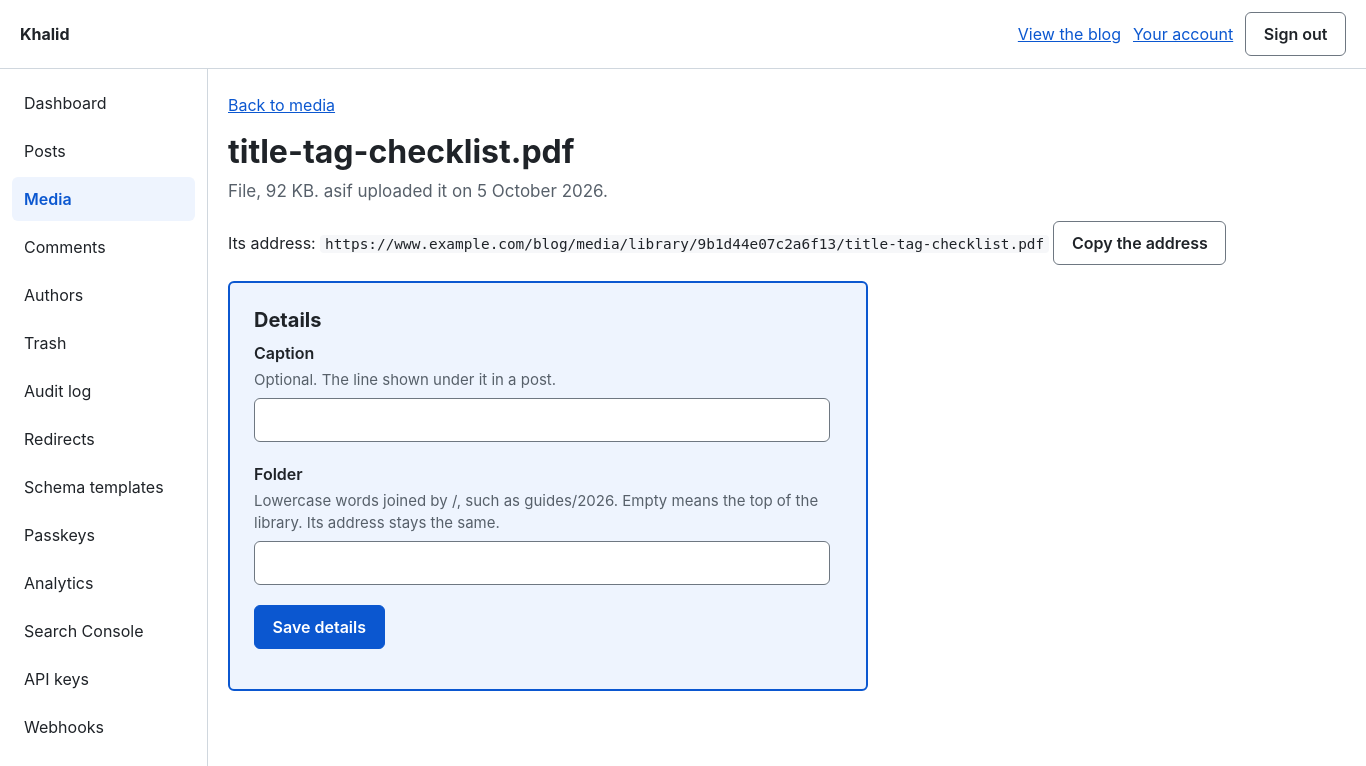
Test: a file's details › asks a file for no alt text or focal point, and moves it to another folder
In the field labelled "Folder": (542, 563) top-left (254, 541), bottom-right (830, 585), type "guides"
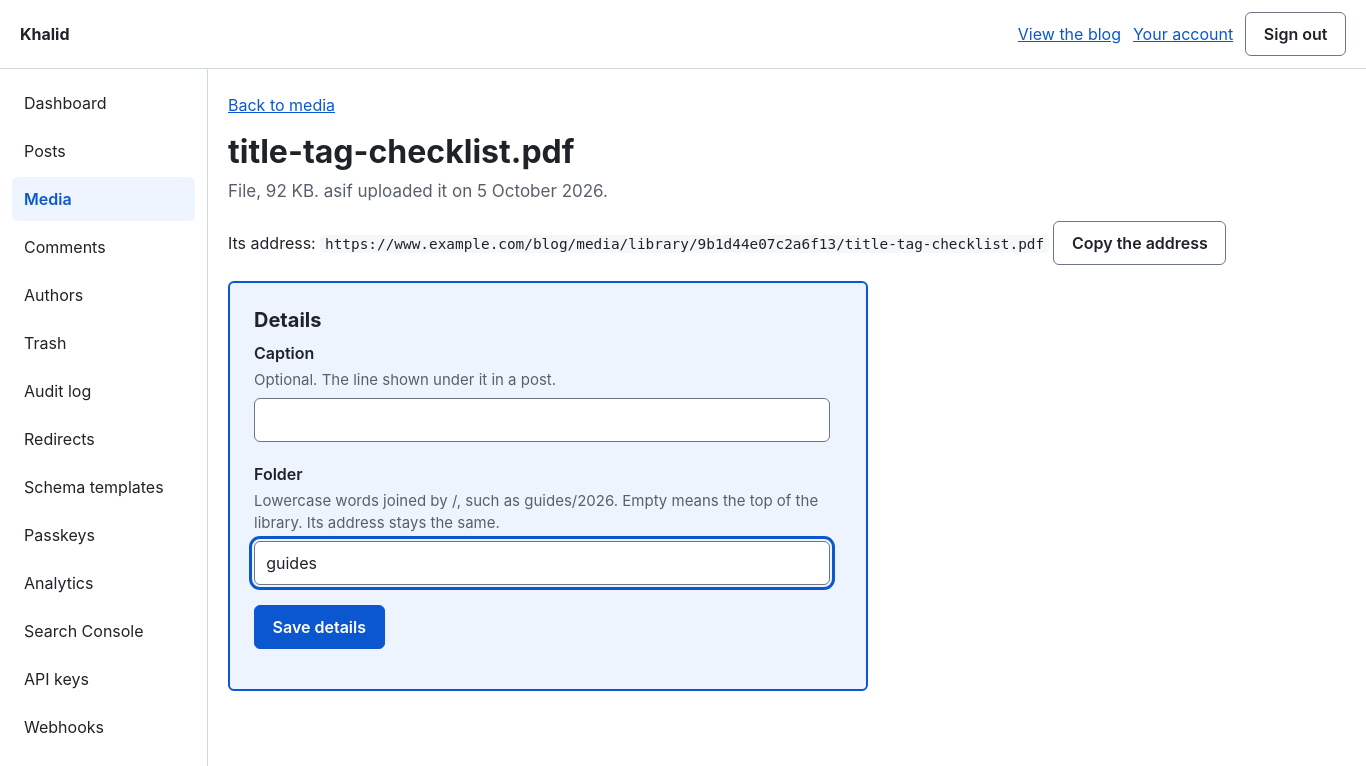
Click the button "Save details": (319, 627) top-left (254, 605), bottom-right (385, 649)
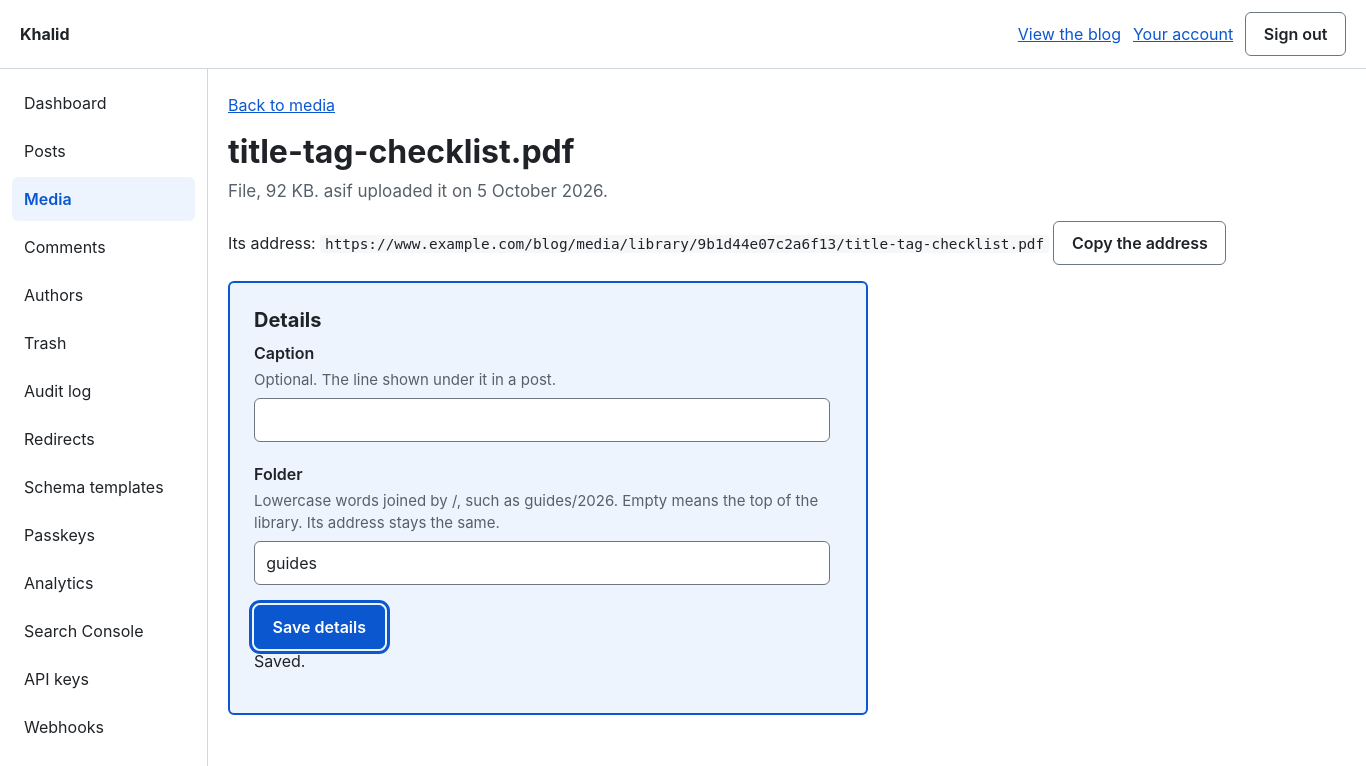
Check: the text "Saved." is shown, box top-left (254, 651), bottom-right (305, 671)
